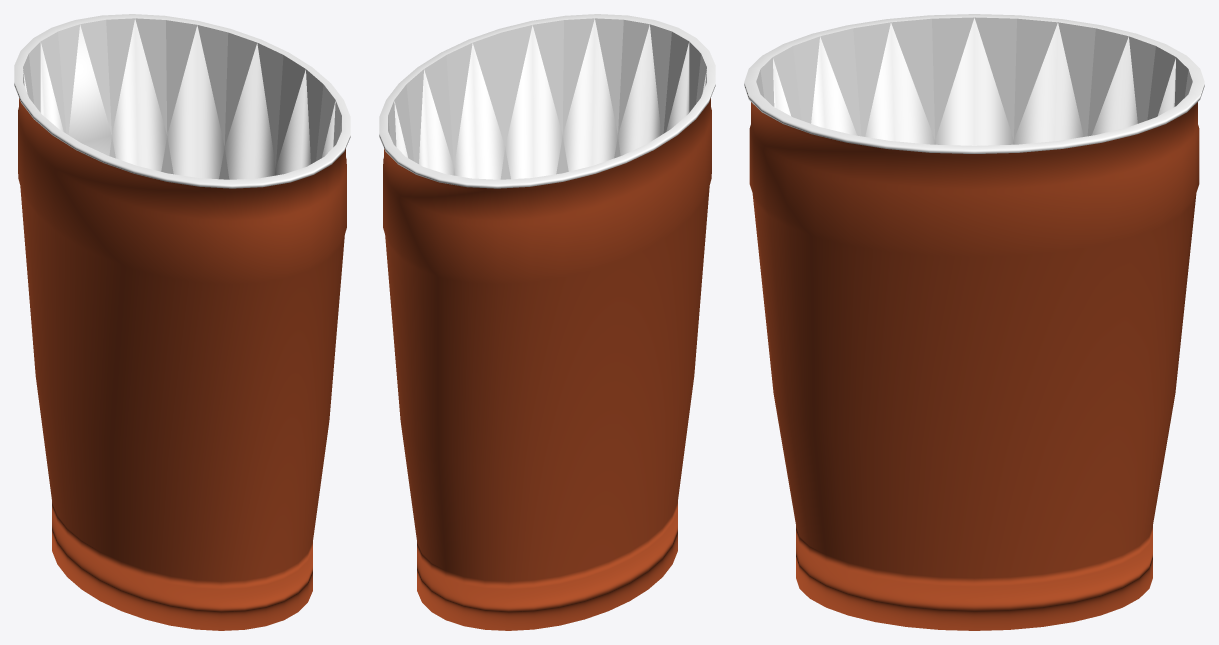
The model's file is RedCup.fbx.
The picture shows the model from 3 angles, left to right: view 1: azimuth 30°, elevation 25°; view 2: azimuth 150°, elevation 25°; view 3: azimuth 270°, elevation 25°; orthographic projection. The views are drawn at different scales.
Parts seen in each view (by area): view 1: Cylinder; view 2: Cylinder; view 3: Cylinder.
Part boxes in pixels (box(x1,y1,x2,y2)): Cylinder: box(14, 14, 350, 630); Cylinder: box(379, 14, 715, 630); Cylinder: box(744, 14, 1204, 630).
Size of the model in its own units: 258 by 442 by 371.
